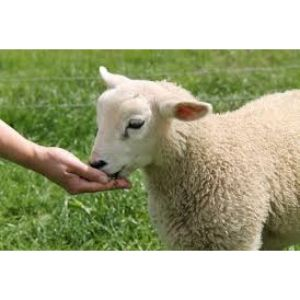sheep: (89, 66, 297, 248)
